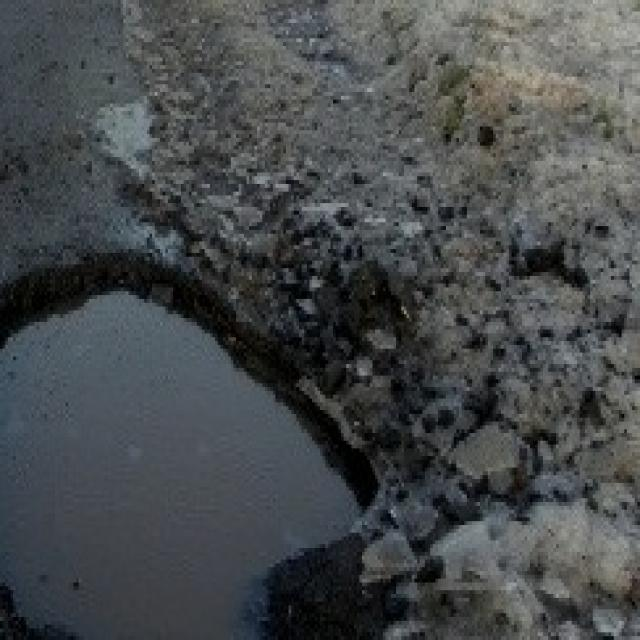road-pothole: (0, 248, 398, 636)
